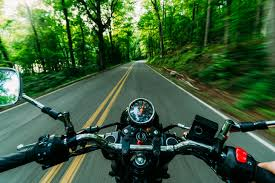motorcycle: (1, 67, 275, 183)
